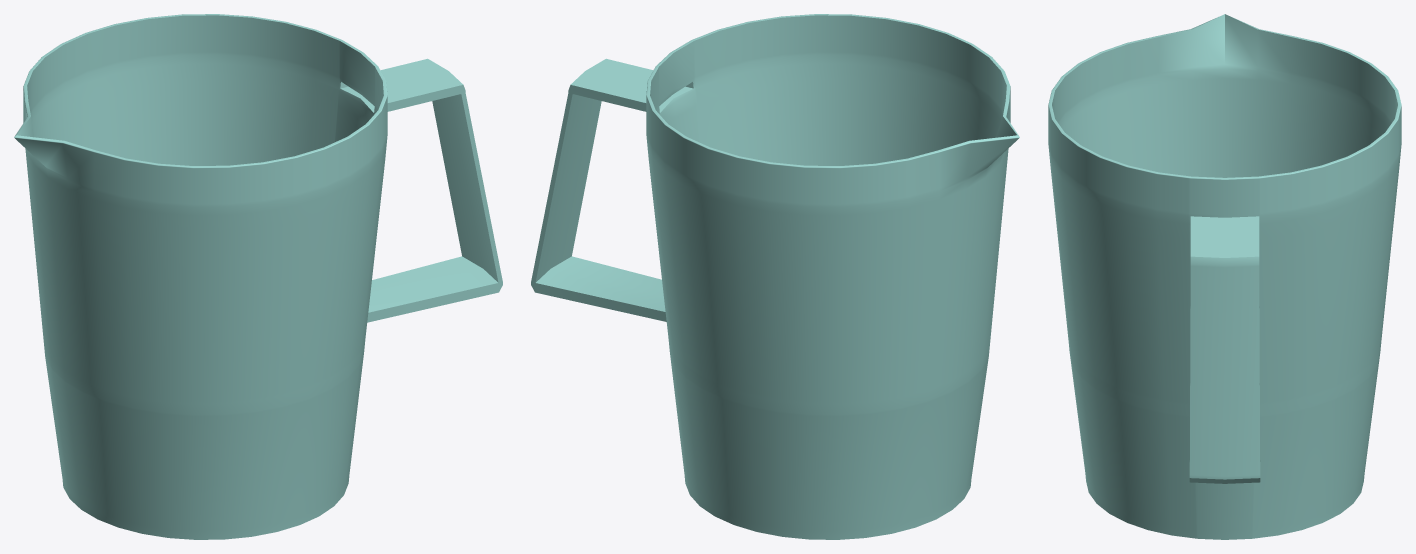
Rendered from measurement cup.fbx.
3 renders of one model, left to right at view 1: azimuth 30°, elevation 25°; view 2: azimuth 150°, elevation 25°; view 3: azimuth 270°, elevation 25°, orthographic. The views are drawn at different scales.
Parts seen in each view (by area): view 1: Circle; view 2: Circle; view 3: Circle.
Boxes of the visible parts, left/top/right/bottom form: Circle: left=14, top=14, right=502, bottom=539; Circle: left=531, top=14, right=1019, bottom=539; Circle: left=1048, top=14, right=1401, bottom=539.
Bounding box in the file's own units: 300 × 236 × 200.
1 material, 1 textured.
